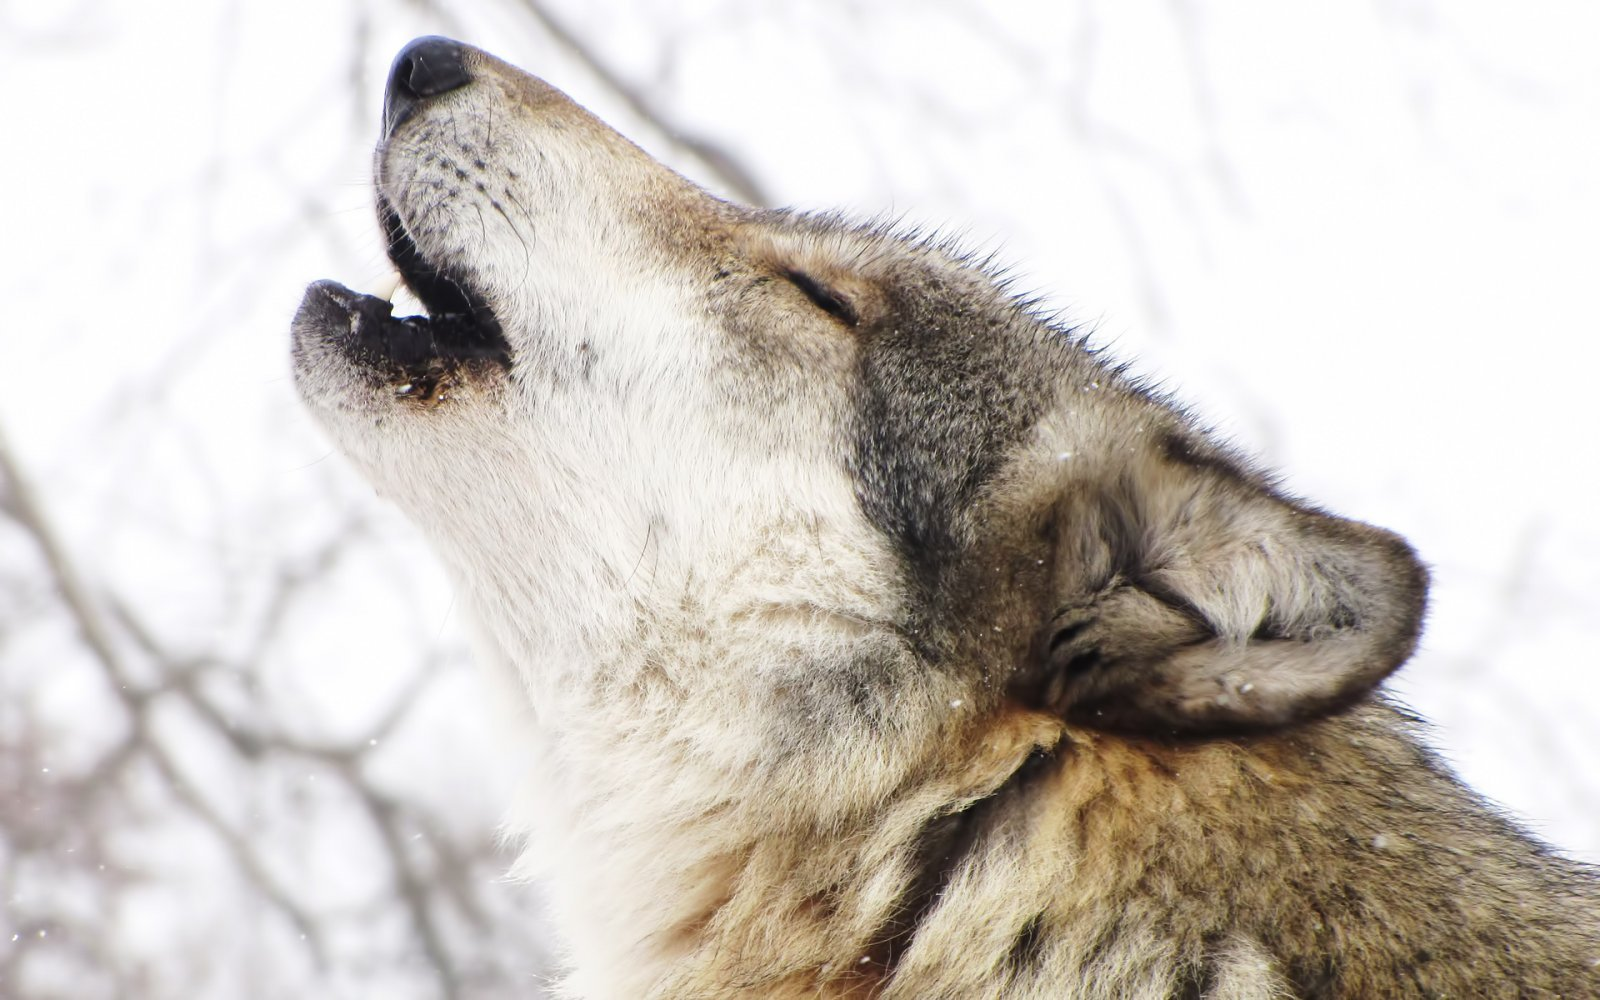Lobo: (214, 5, 1489, 935)
